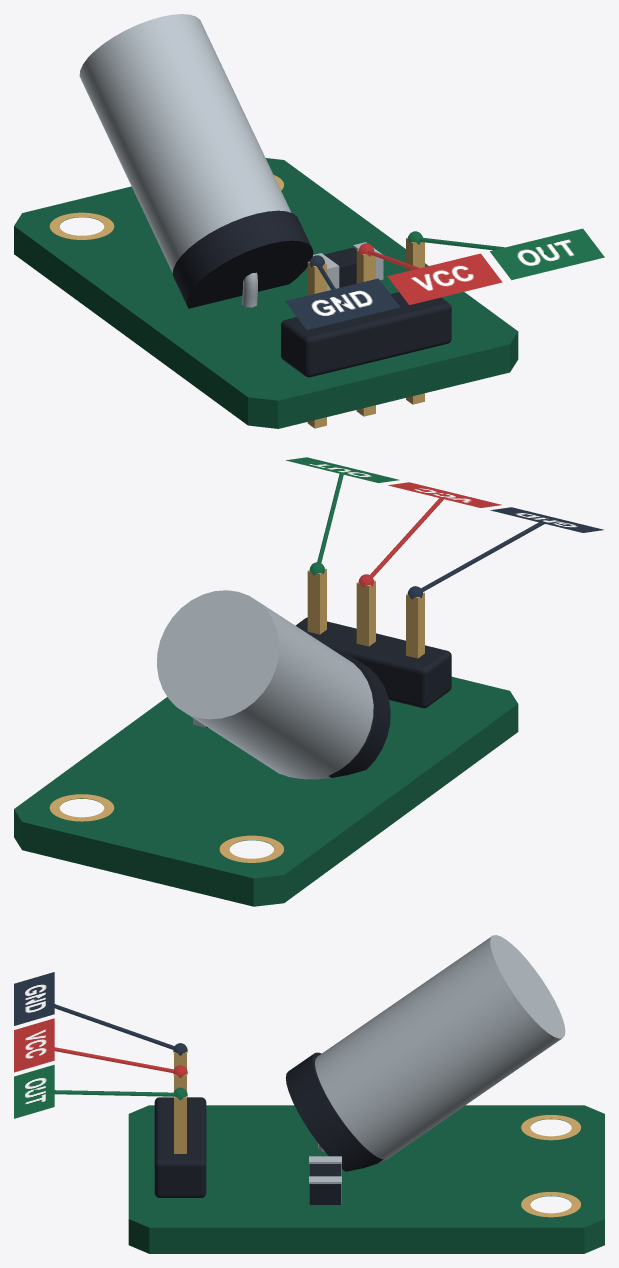
The model's file is tilt.glb.
The picture shows the model from 3 angles, top to bottom: view 1: azimuth 30°, elevation 25°; view 2: azimuth 150°, elevation 25°; view 3: azimuth 270°, elevation 25°; orthographic projection. The views are drawn at different scales.
Visible parts, largest first — view 1: tilt, VCC, GND, OUT, Terminal labels; view 2: tilt, Terminal labels, GND, VCC, OUT; view 3: tilt, Terminal labels, VCC, GND, OUT.
Boxes of the visible parts, bbox=[...] form: tilt: bbox=[14, 14, 518, 428]; VCC: bbox=[387, 253, 502, 304]; GND: bbox=[285, 278, 399, 329]; OUT: bbox=[490, 228, 604, 280]; Terminal labels: bbox=[309, 231, 548, 304]; tilt: bbox=[14, 568, 518, 906]; Terminal labels: bbox=[309, 468, 548, 599]; GND: bbox=[490, 507, 603, 532]; VCC: bbox=[388, 482, 501, 507]; OUT: bbox=[285, 457, 399, 482]; tilt: bbox=[128, 935, 604, 1253]; Terminal labels: bbox=[33, 997, 187, 1100]; VCC: bbox=[14, 1018, 54, 1072]; GND: bbox=[14, 972, 54, 1025]; OUT: bbox=[14, 1064, 54, 1118].
Bounding box in the file's own units: 0.0154 × 0.014 × 0.0285.
Materials: 10 (3 with a texture image).
